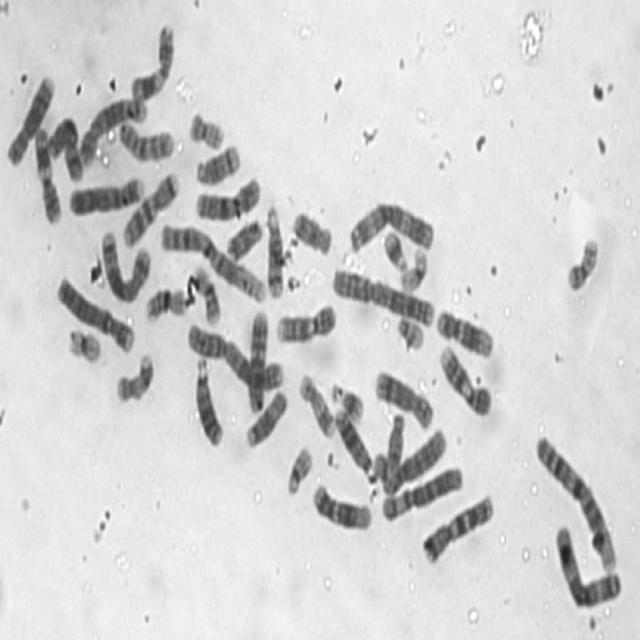A1: (531, 426, 619, 574), (157, 216, 268, 305)
A2: (183, 315, 287, 394), (328, 259, 438, 329)
A3: (551, 517, 624, 611), (345, 192, 438, 256)
B4: (52, 267, 138, 356), (66, 168, 147, 218)
B5: (77, 89, 150, 168), (97, 222, 153, 305)
C10: (114, 114, 176, 163), (244, 304, 270, 415)
C11: (127, 16, 176, 103), (30, 120, 63, 227)
C12: (432, 300, 496, 360), (310, 475, 374, 533)
C6: (378, 457, 466, 525), (373, 420, 448, 496)
C7: (418, 486, 497, 566), (120, 164, 182, 248)
C8: (2, 67, 58, 169), (370, 361, 436, 432)
C9: (435, 336, 494, 419), (272, 296, 339, 345)
D13: (332, 401, 378, 482), (191, 351, 225, 449)
D14: (192, 136, 243, 187), (262, 198, 286, 300)
D15: (242, 382, 290, 450), (381, 407, 407, 493)
E16: (189, 259, 223, 326), (141, 278, 188, 324)
E17: (296, 365, 337, 440), (112, 346, 156, 406)
E18: (288, 203, 334, 256), (223, 209, 266, 263)
F19: (396, 241, 430, 293), (63, 321, 103, 365)
F20: (562, 228, 601, 294), (185, 104, 227, 150)
G21: (327, 374, 366, 426), (380, 221, 409, 272)
G22: (282, 438, 314, 498), (393, 310, 426, 352)
X: (191, 167, 263, 224), (44, 109, 85, 182)
